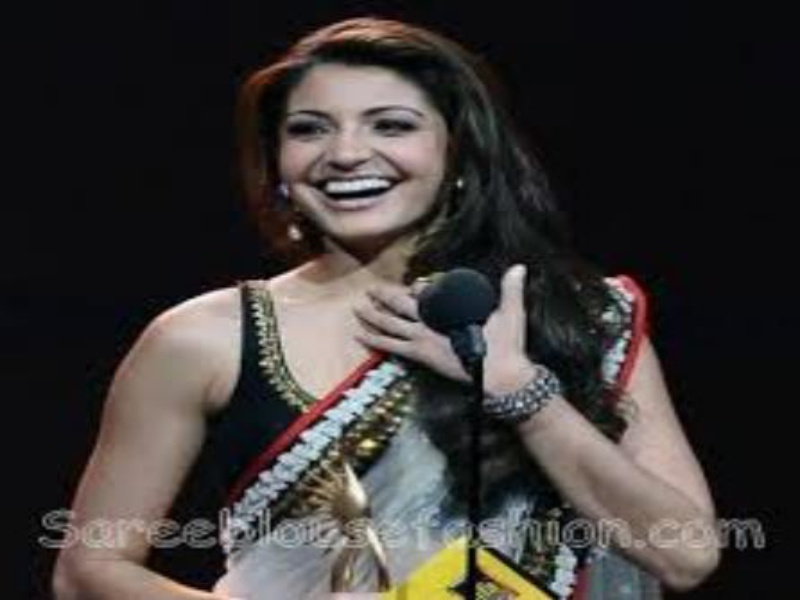TsisyArotava: (261, 33, 461, 248)
